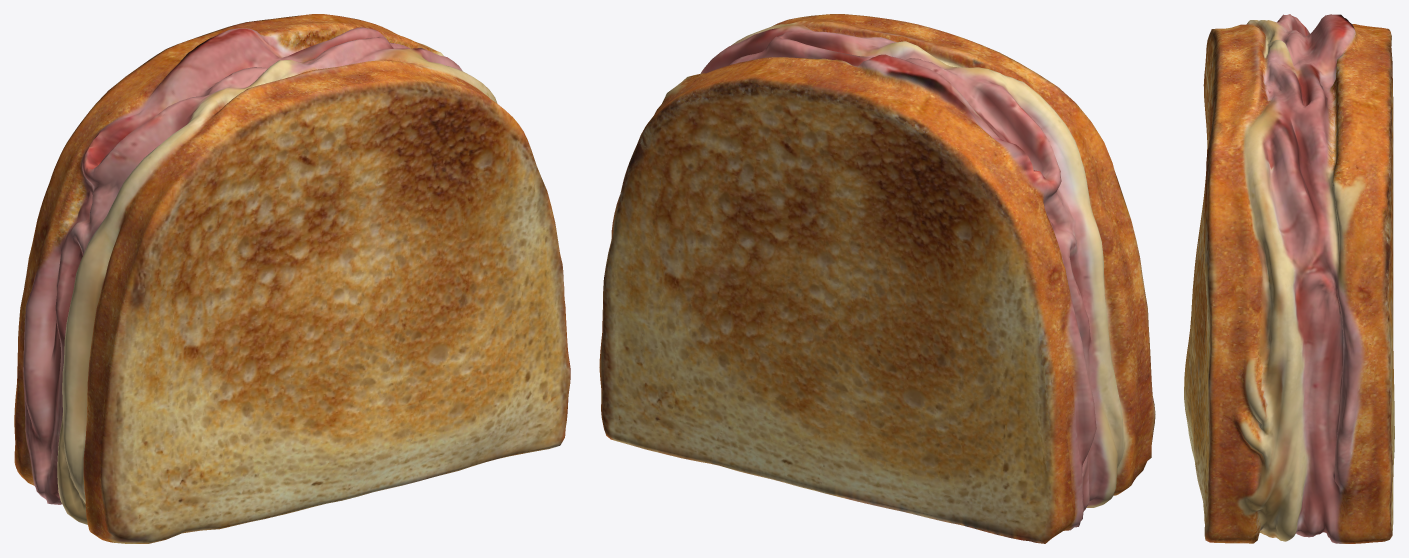
The model's file is sandwich.obj.
3 views of the same model, side by side, from view 1: azimuth 30°, elevation 25°; view 2: azimuth 150°, elevation 25°; view 3: azimuth 270°, elevation 25° (orthographic). The views are drawn at different scales.
Visible parts, largest first — view 1: sandwich; view 2: sandwich; view 3: sandwich.
Part boxes in pixels (x1,y1,x2,y2): sandwich: (14, 14, 570, 543); sandwich: (599, 14, 1155, 543); sandwich: (1184, 14, 1394, 543).
Size of the model in its own units: 1.83 by 1.59 by 0.7308.
